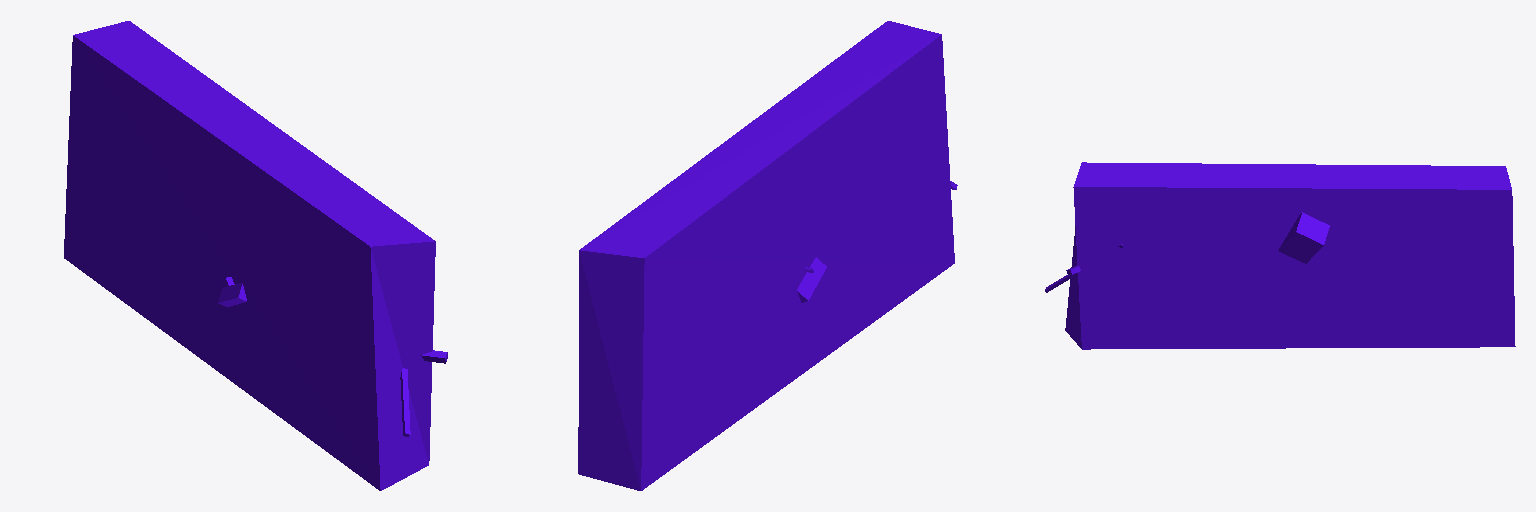
robot.urdf — blob562:

<robot name="blob562">
  <link name="random_obj_562">
    <contact>
      <lateral_friction value="1.0"/>
      <rolling_friction value="0.0"/>
      <inertia_scaling value="3.0"/>
      <contact_cfm value="0.0"/>
      <contact_erp value="1.0"/>
    </contact>
    <inertial>
      <origin rpy="0 0 0" xyz="0 0 0"/>
      <mass value="0.1693"/>
      <inertia ixx="1" ixy="0" ixz="0" iyy="1" iyz="0" izz="0"/>
    </inertial>
    <visual>
      <origin rpy="0 0 0" xyz="0 0 0"/>
      <geometry>
        <mesh filename="562.obj" scale="0.0080 0.0080 0.0080"/>
      </geometry>
      <material name="blockmat">
        <color rgba="0.39 0.09 0.93 1"/>
      </material>
    </visual>
    <collision>
      <origin rpy="0 0 0" xyz="0 0 0"/>
      <geometry>
        <mesh filename="562_coll.obj" scale="0.0080 0.0080 0.0080"/>
      </geometry>
    </collision>
  </link>
</robot>

--- Render facts (derived) ---
Views: 3 orthographic renders of the robot side by side, from view 1: azimuth 30°, elevation 25°; view 2: azimuth 150°, elevation 25°; view 3: azimuth 270°, elevation 25°.
Robot: blob562 — 1 links, 0 joints (none); root link random_obj_562; default pose: every joint at zero.
Links seen in each view (by area): view 1: random_obj_562; view 2: random_obj_562; view 3: random_obj_562.
Boxes of the visible links, bbox=[...] form: random_obj_562: bbox=[64, 21, 447, 490]; random_obj_562: bbox=[578, 21, 957, 490]; random_obj_562: bbox=[1045, 162, 1515, 349].
Bounding box of the posed robot: 0.0179 × 0.1028 × 0.0406 m (x, y, z).
1 mesh visuals loaded from 1 distinct referenced files (1 OBJ).
